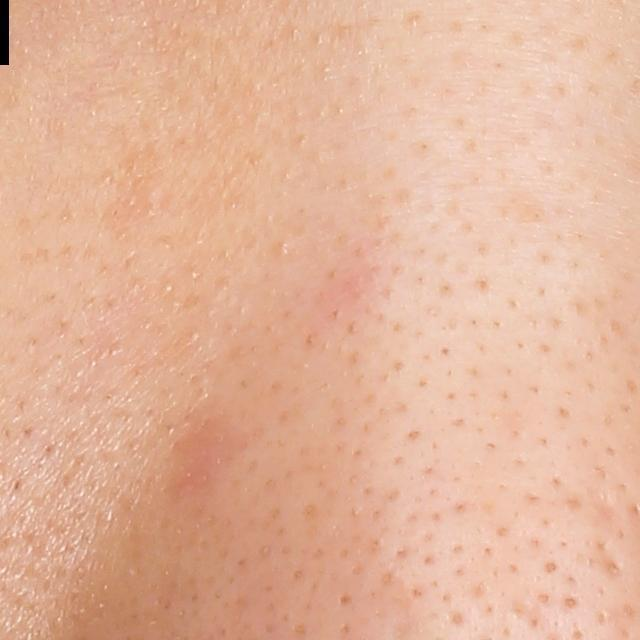atrophic_scar: (594, 535, 622, 578)
comedo: (560, 593, 580, 611)
